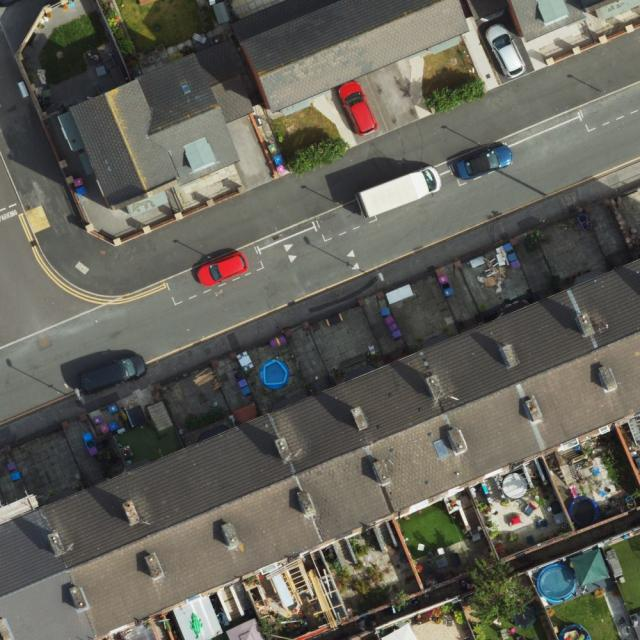roof: (0, 255, 640, 640), (71, 38, 256, 212), (241, 0, 469, 113), (505, 2, 588, 40)
skylight: (430, 437, 452, 462), (178, 78, 194, 97)
